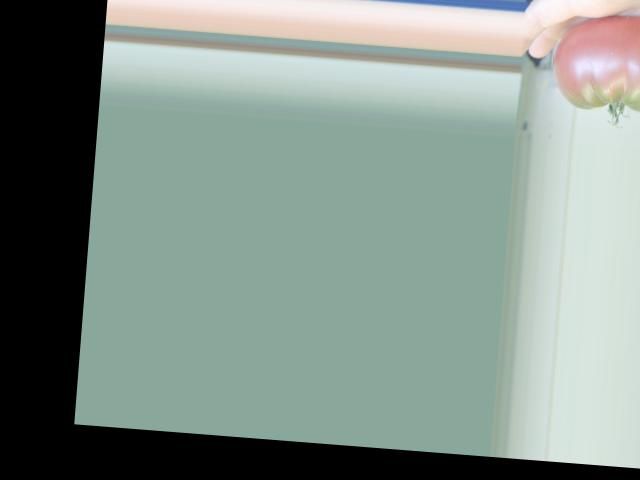tomato: (550, 9, 640, 117)
